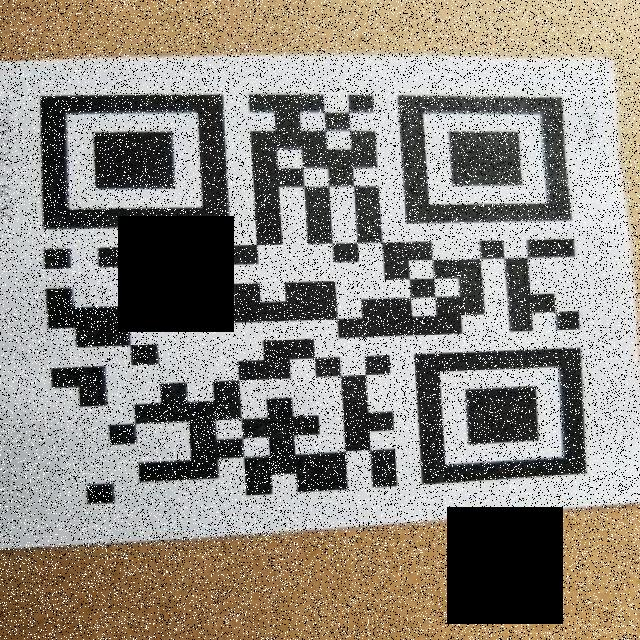QR_CODE: (20, 66, 608, 515)
